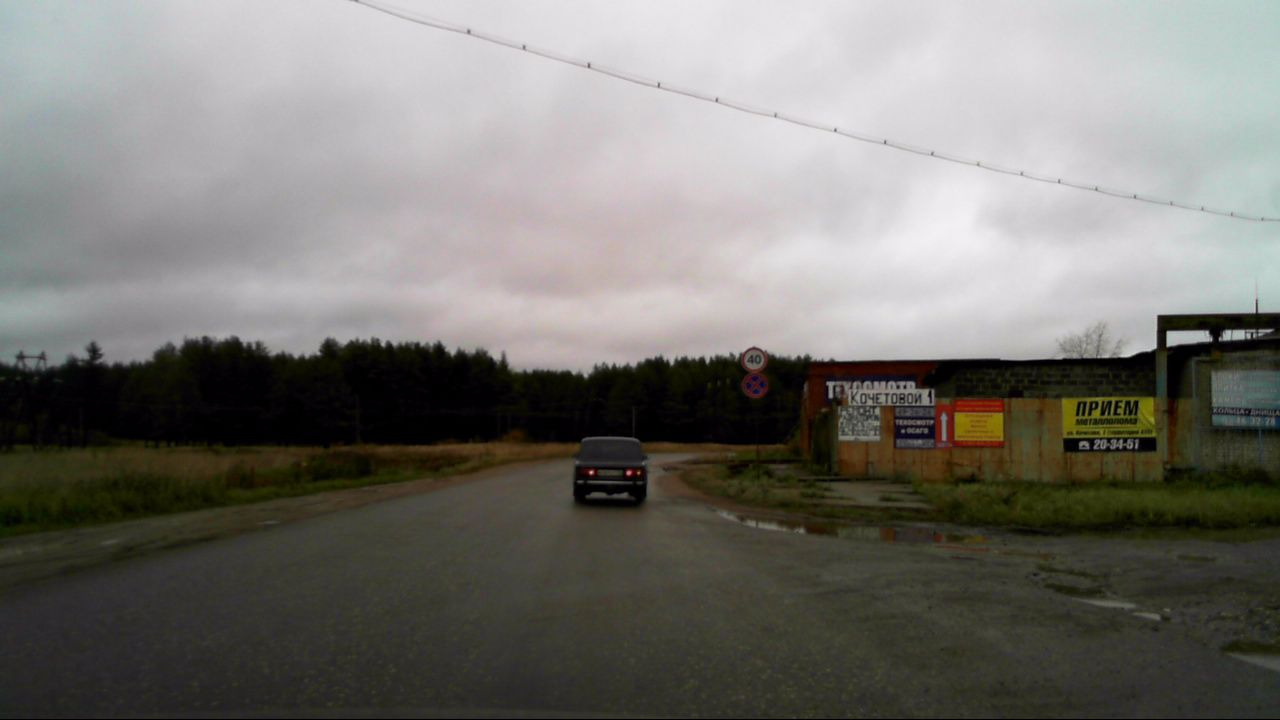No Parking: (742, 372, 768, 399)
speed_warning_40: (741, 347, 767, 371)
